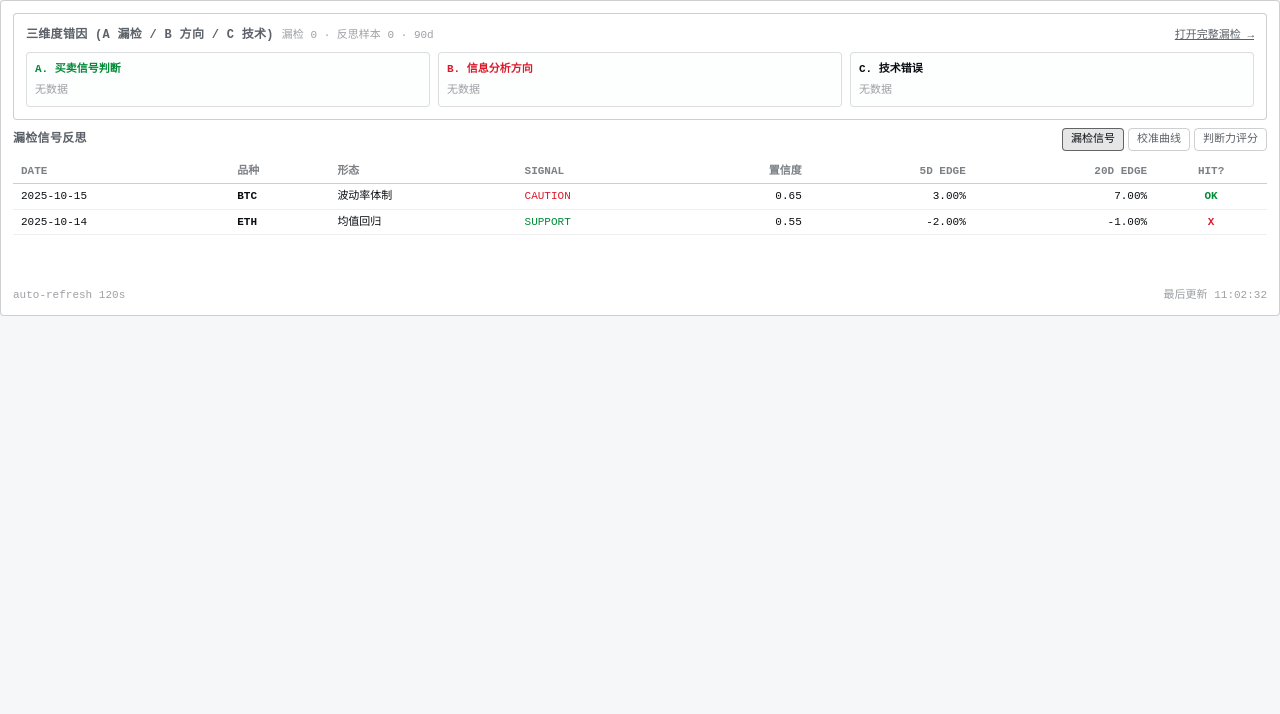
Test case: MissedSignalsPanel › switches to quality tab and shows calibration gap
Expected: the text "BTC" is shown, x1=229 y1=184 x2=329 y2=209
Step 1. Click the tab "判断力评分" → (1230, 139), box x1=1194 y1=128 x2=1267 y2=150
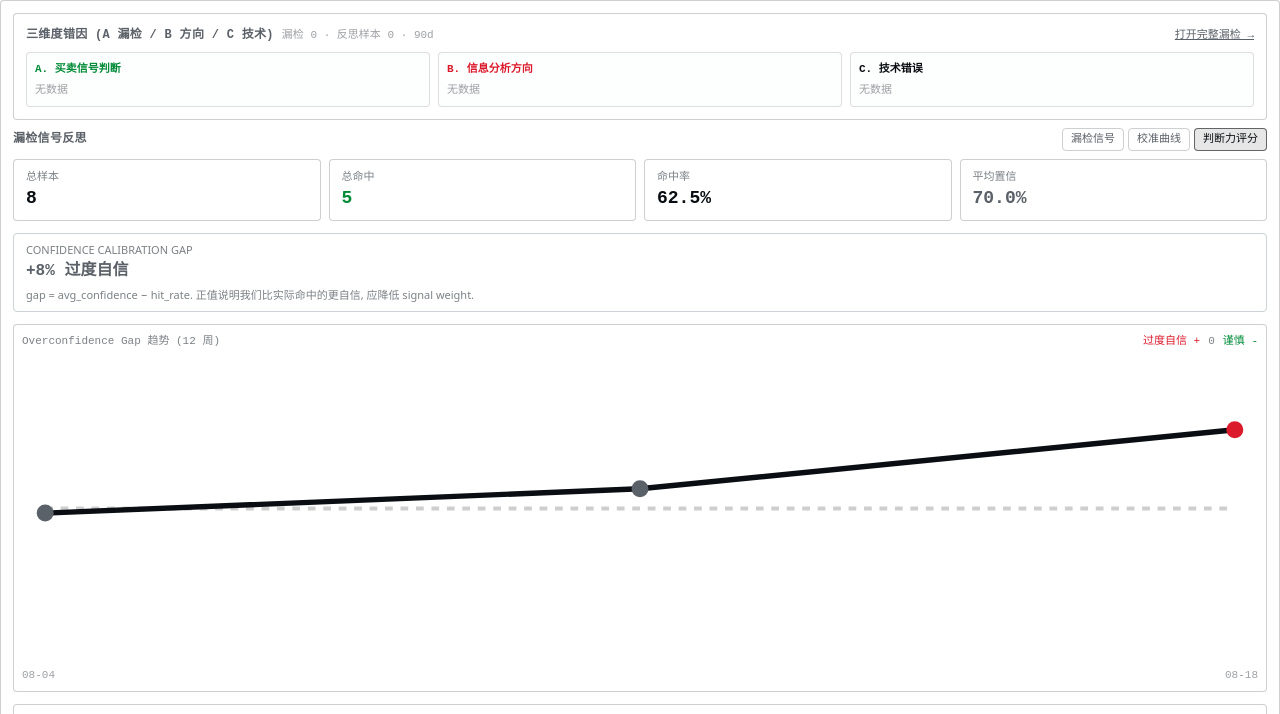
Expected: the text "Confidence Calibration Gap" is shown, x1=26 y1=242 x2=193 y2=257
Expected: the text "+8% 过度自信" is shown, x1=26 y1=262 x2=128 y2=280
